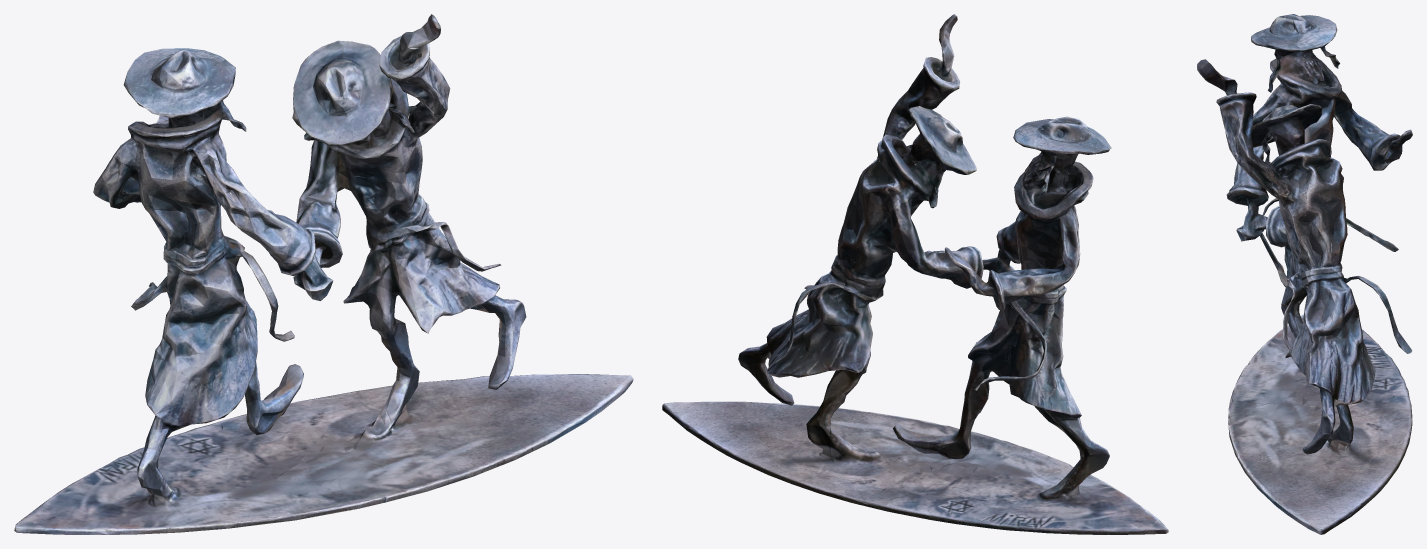
Rendered from the-duel.glb.
3 renders of one model, left to right at view 1: azimuth 30°, elevation 25°; view 2: azimuth 150°, elevation 25°; view 3: azimuth 270°, elevation 25°, orthographic. The views are drawn at different scales.
Parts seen in each view (by area): view 1: model.001; view 2: model.001; view 3: model.001.
Boxes of the visible parts, left/top/right/bottom form: model.001: left=14, top=14, right=633, bottom=534; model.001: left=662, top=14, right=1168, bottom=534; model.001: left=1197, top=14, right=1412, bottom=534.
Size of the model in its own units: 0.6178 by 0.4713 by 0.2471.
Materials: 1 (1 with a texture image).
